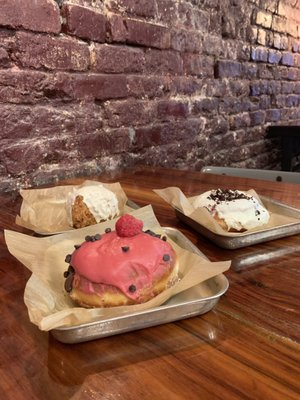sandwich: (120, 183, 300, 252)
